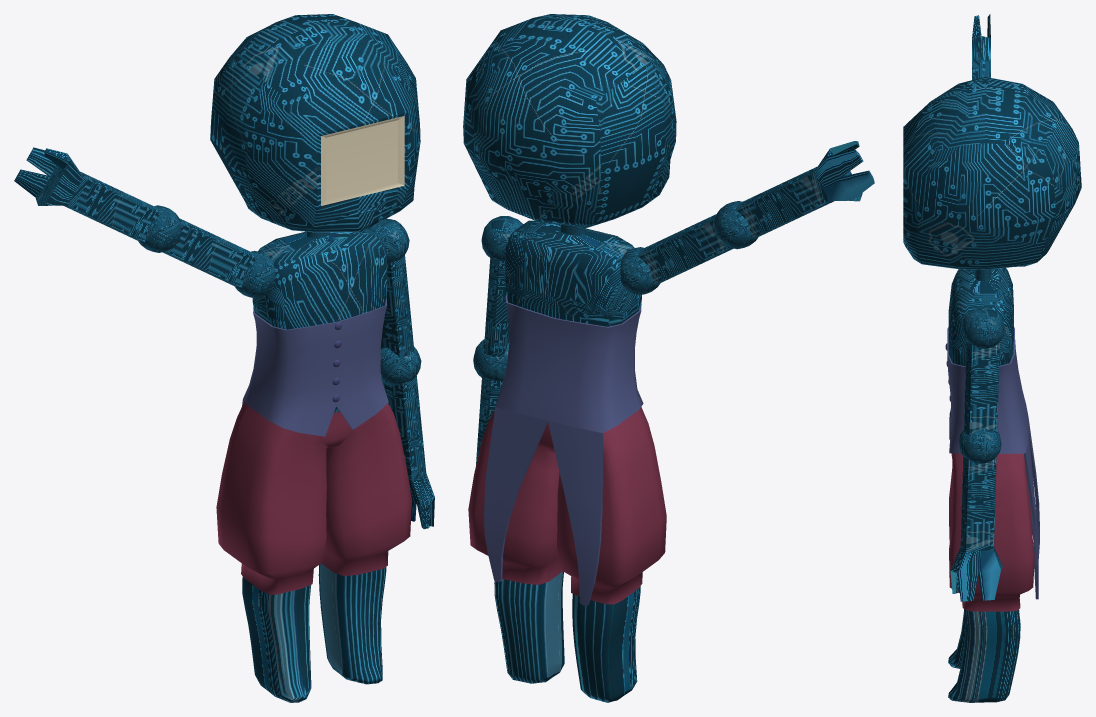
Rendered from Spotlight-Cyclops.fbx.
The picture shows the model from 3 angles, left to right: view 1: azimuth 30°, elevation 25°; view 2: azimuth 150°, elevation 25°; view 3: azimuth 270°, elevation 25°; orthographic projection. The views are drawn at different scales.
Visible parts, largest first — view 1: BodyM2, Pants, Corset, RightArm, LeftArm; view 2: BodyM2, Corset, Pants, RightArm, LeftArm; view 3: BodyM2, LeftArm, Pants, Corset, RightArm.
Part boxes in pixels (box(x1,y1,x2,y2)): BodyM2: box(210, 14, 420, 702); Pants: box(216, 401, 411, 594); Corset: box(242, 298, 388, 436); RightArm: box(14, 147, 275, 298); LeftArm: box(369, 218, 434, 529); BodyM2: box(463, 14, 676, 702); Corset: box(484, 295, 643, 605); Pants: box(468, 407, 666, 604); RightArm: box(620, 141, 874, 295); LeftArm: box(473, 216, 523, 464); BodyM2: box(903, 77, 1081, 702); LeftArm: box(950, 307, 1004, 601); Pants: box(949, 453, 1034, 611); Corset: box(947, 327, 1039, 599); RightArm: box(972, 14, 990, 79).
Size of the model in its own units: 87.06 by 135 by 36.81.
5 materials, 1 textured.
